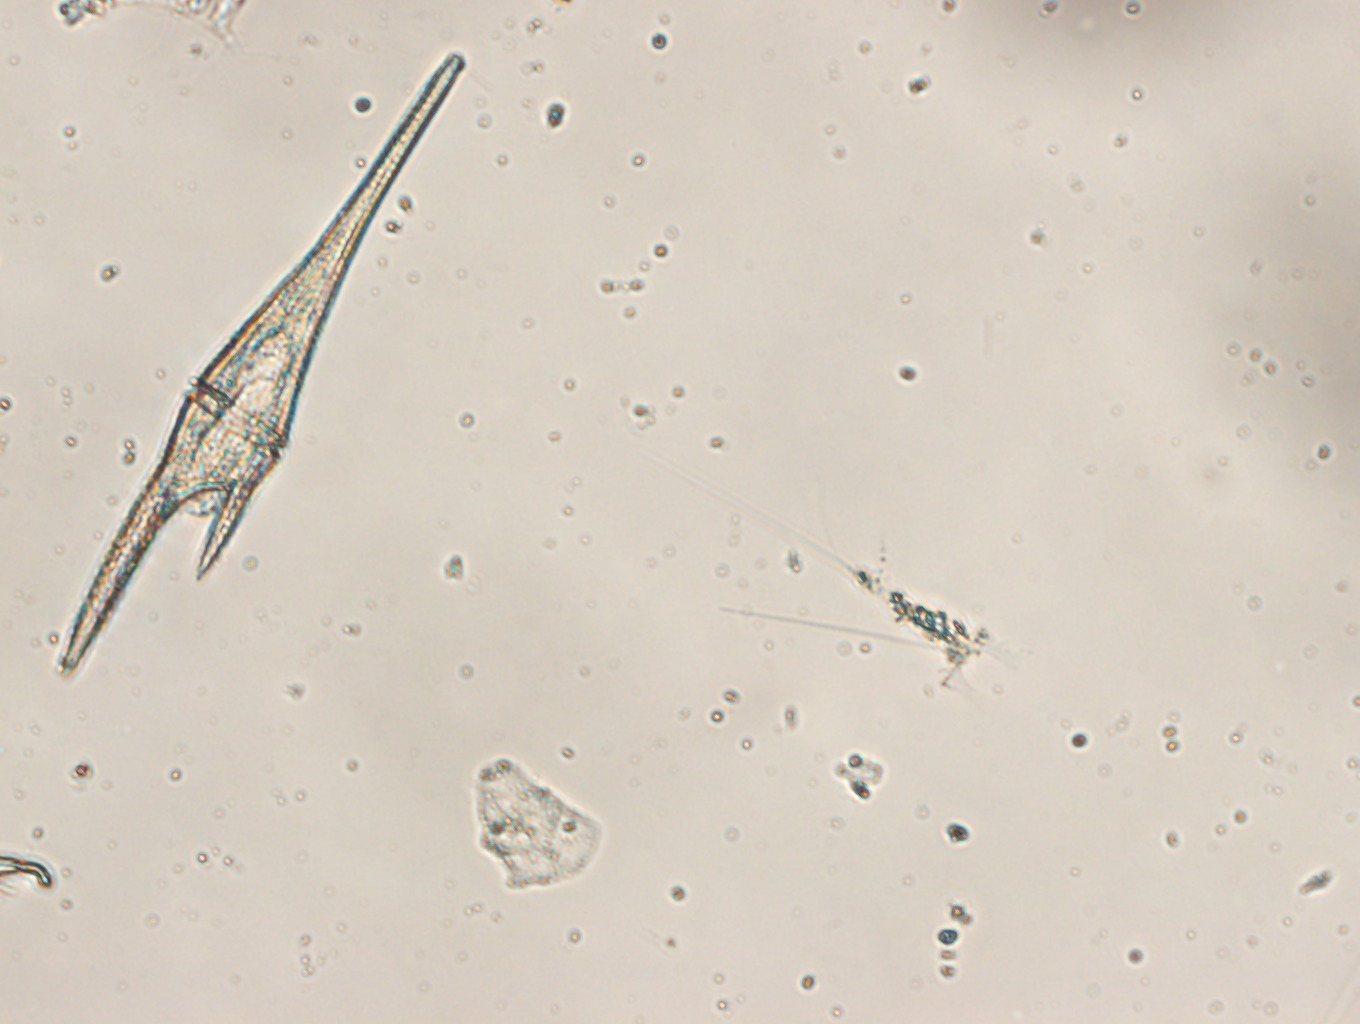ceratium furca: (57, 49, 468, 677)
